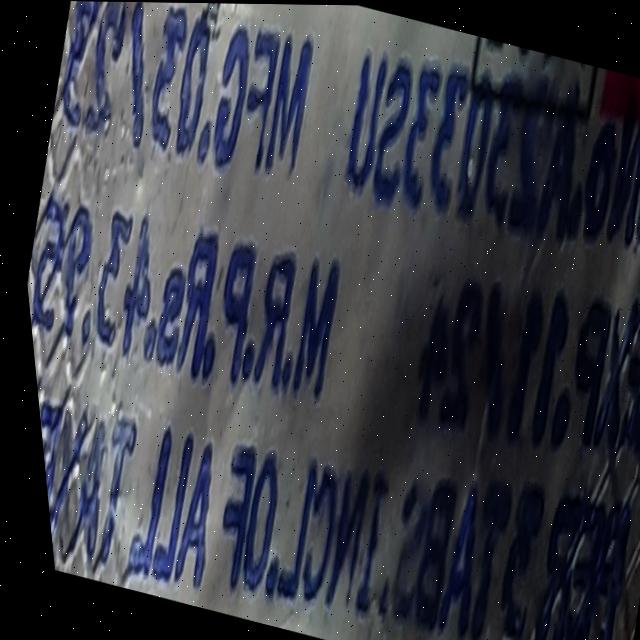sentence: (48, 1, 640, 247), (31, 404, 620, 640), (24, 191, 335, 394), (410, 283, 640, 450)
